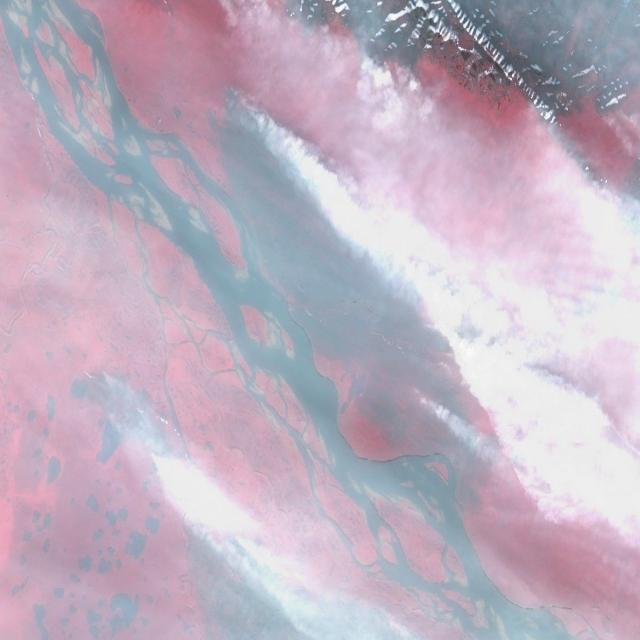fire: (206, 82, 479, 373), (273, 0, 405, 70)
